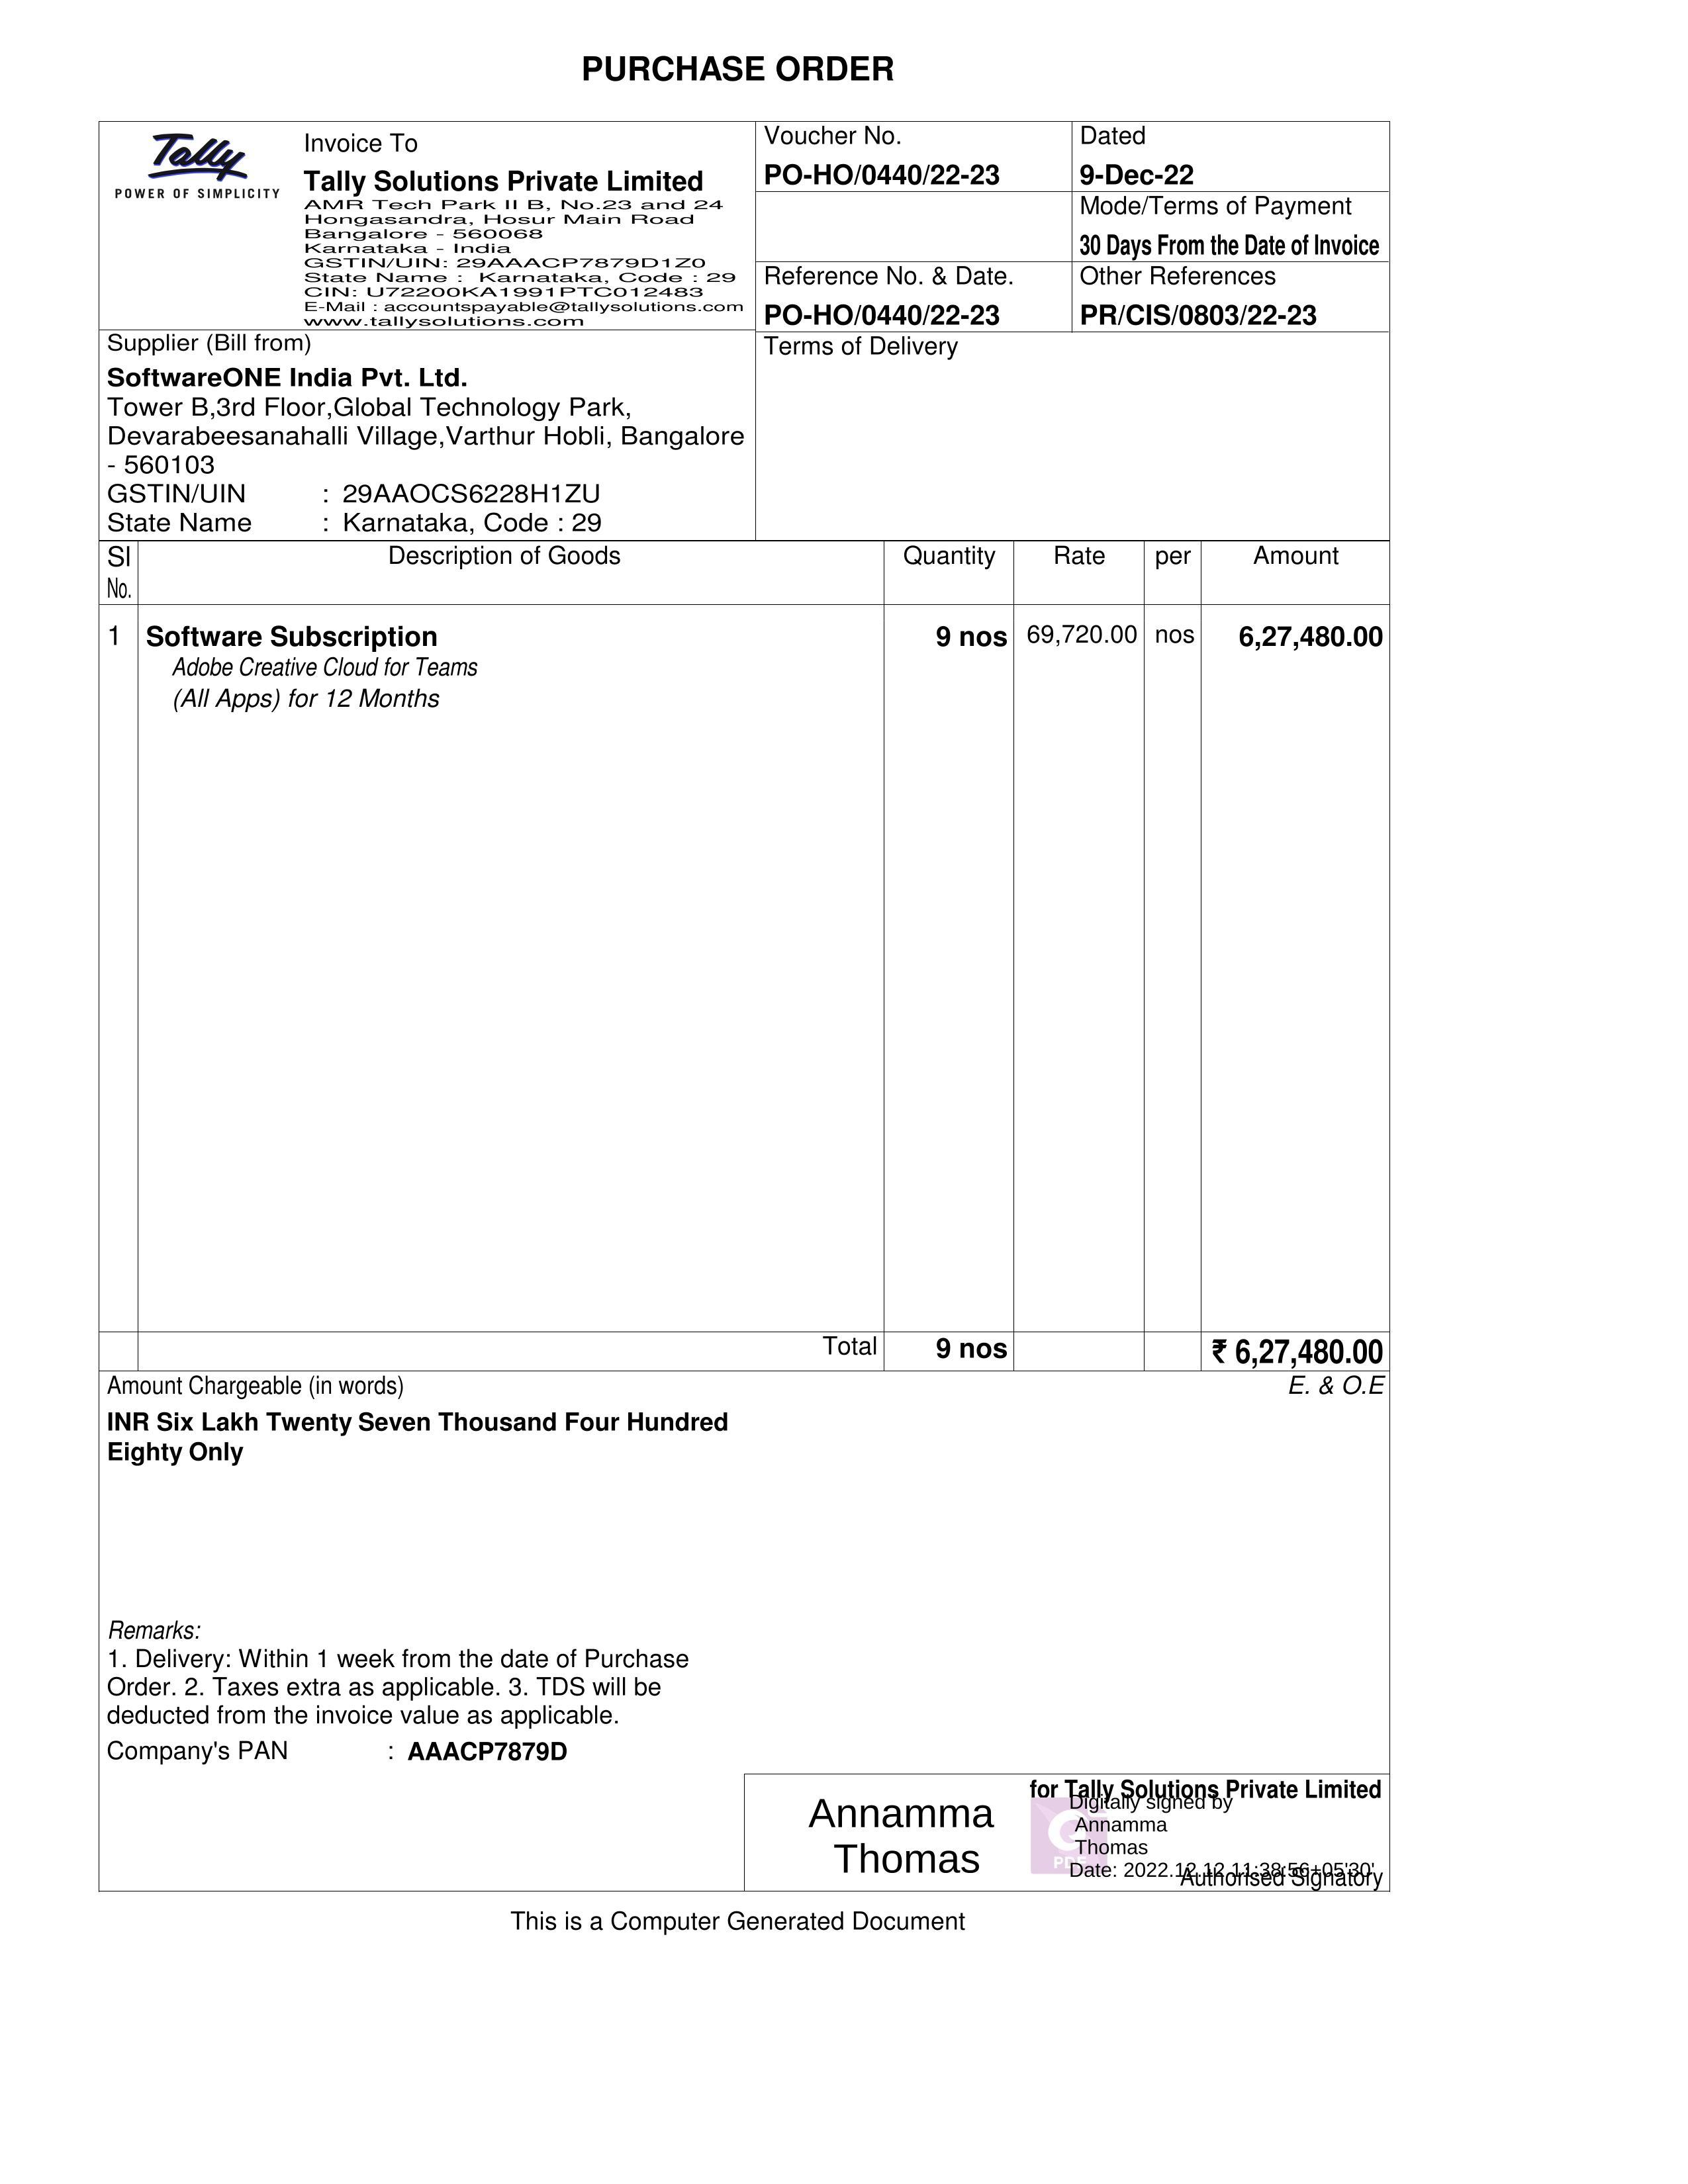InvoiceDate: (1071, 154, 1206, 197)
InvoiceNumber: (761, 287, 1009, 337)
TotalAmount: (1204, 1330, 1387, 1372)
